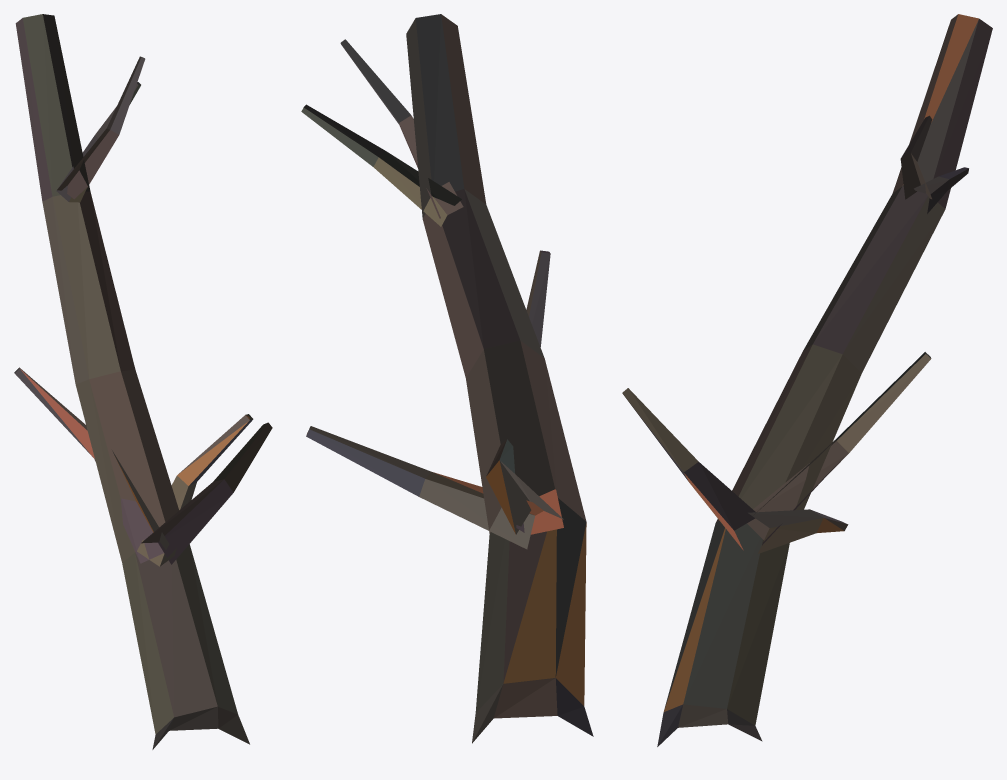
File: Tree_Burnt_02.glb
3 views of the same model, side by side, from view 1: azimuth 30°, elevation 25°; view 2: azimuth 150°, elevation 25°; view 3: azimuth 270°, elevation 25° (orthographic). The views are drawn at different scales.
Parts seen in each view (by area): view 1: Tree_Burnt_02; view 2: Tree_Burnt_02; view 3: Tree_Burnt_02.
Part boxes in pixels (left/top/right/bottom): Tree_Burnt_02: left=14, top=14, right=272, bottom=749; Tree_Burnt_02: left=301, top=14, right=593, bottom=743; Tree_Burnt_02: left=622, top=14, right=992, bottom=746.
Bounding box in the file's own units: 2.61 × 8.22 × 3.93.
